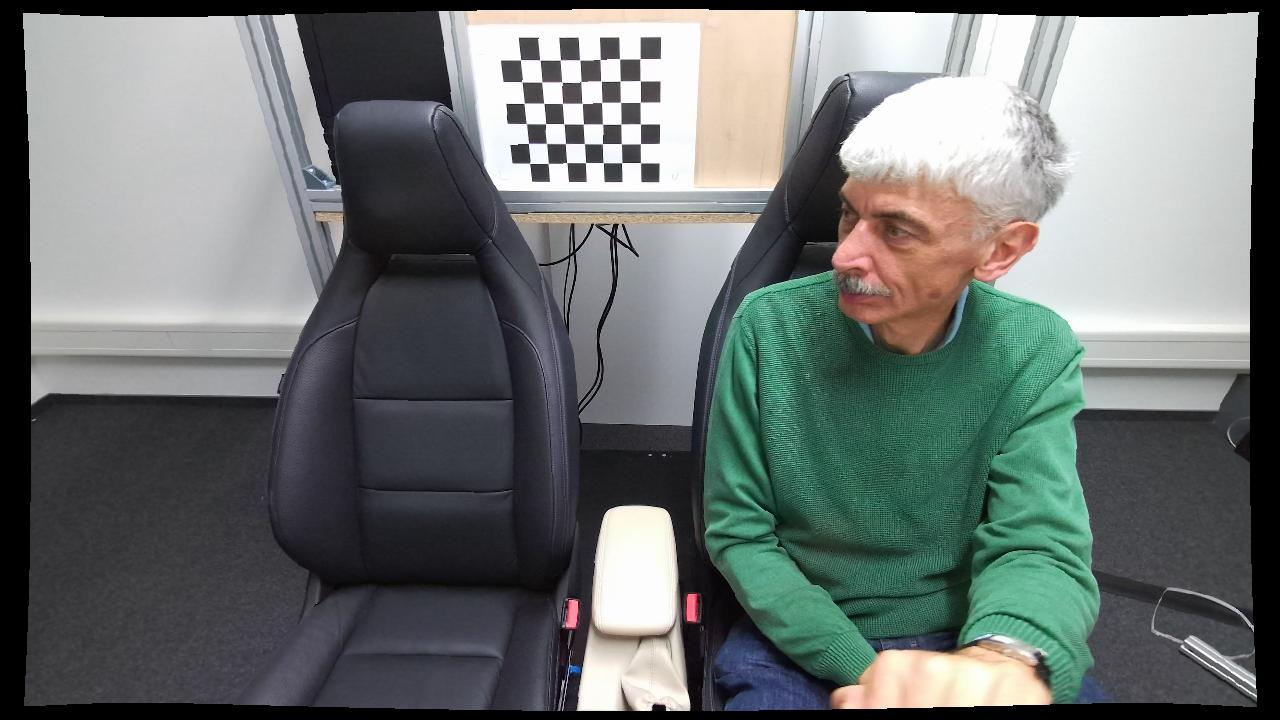Distracted: (702, 66, 1123, 713)
